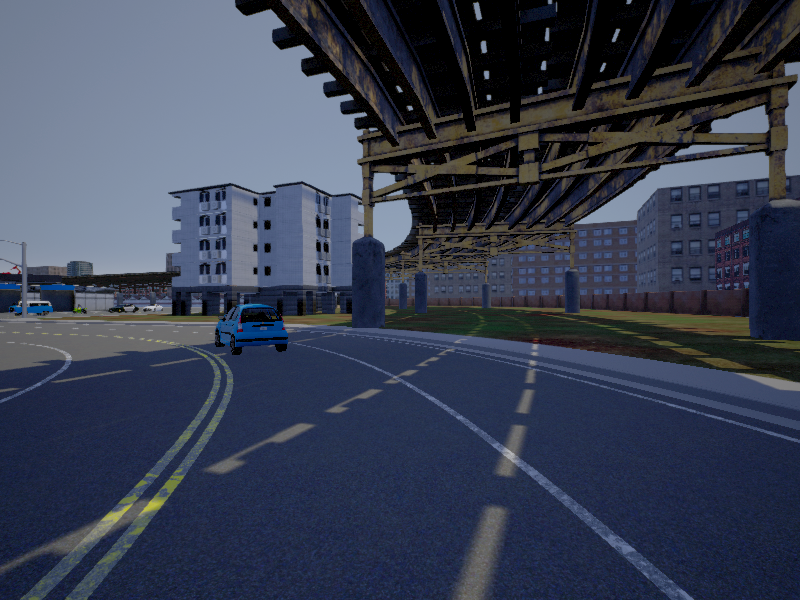Benign: (216, 304, 293, 355), (12, 301, 55, 315), (110, 303, 139, 314)
